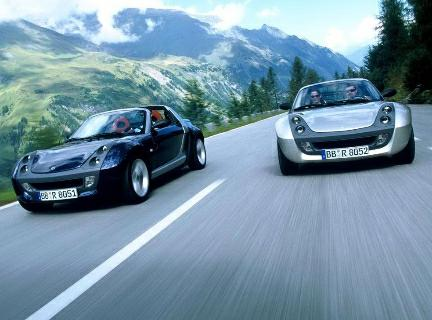smart-roadster: (277, 74, 408, 171)
